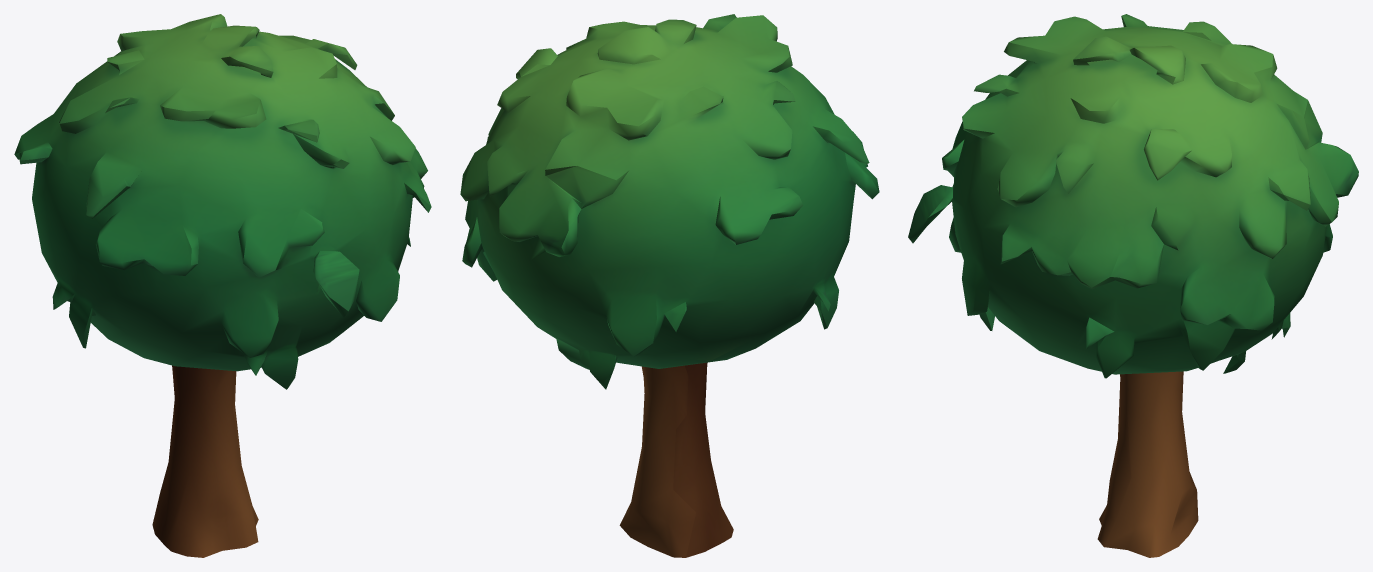
Rendered from casual_tree_003_opt.fbx.
3 renders of one model, left to right at view 1: azimuth 30°, elevation 25°; view 2: azimuth 150°, elevation 25°; view 3: azimuth 270°, elevation 25°, orthographic.
Visible parts, largest first — view 1: tree_casual_03.001; view 2: tree_casual_03.001; view 3: tree_casual_03.001.
Part boxes in pixels (<box>): tree_casual_03.001: <box>14,14,431,557</box>; tree_casual_03.001: <box>460,14,879,557</box>; tree_casual_03.001: <box>908,14,1358,557</box>.
Size of the model in its own units: 518 by 699 by 569.
